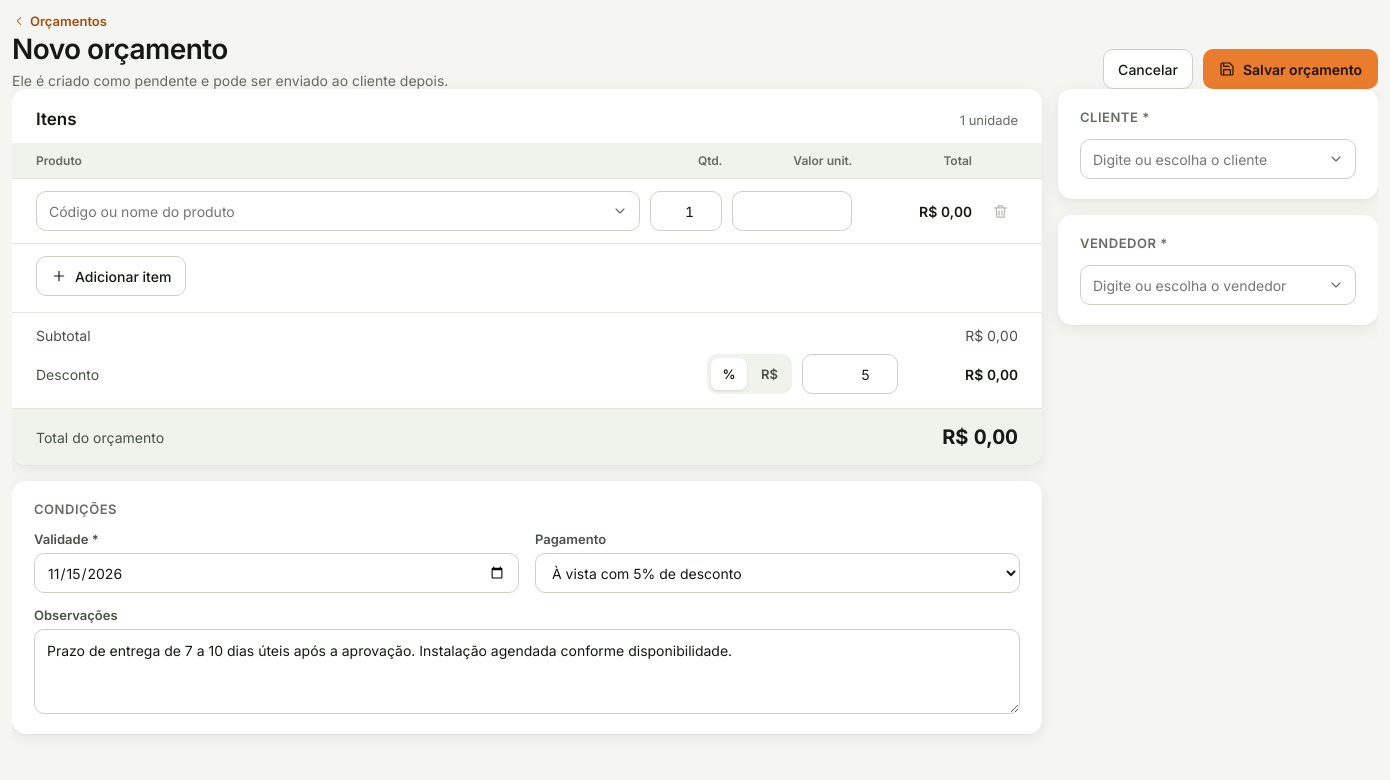
Test: novo orçamento › mostra os erros de cada campo ao salvar vazio
Click the button "Salvar orçamento": click(1290, 69) [1203, 49, 1378, 89]
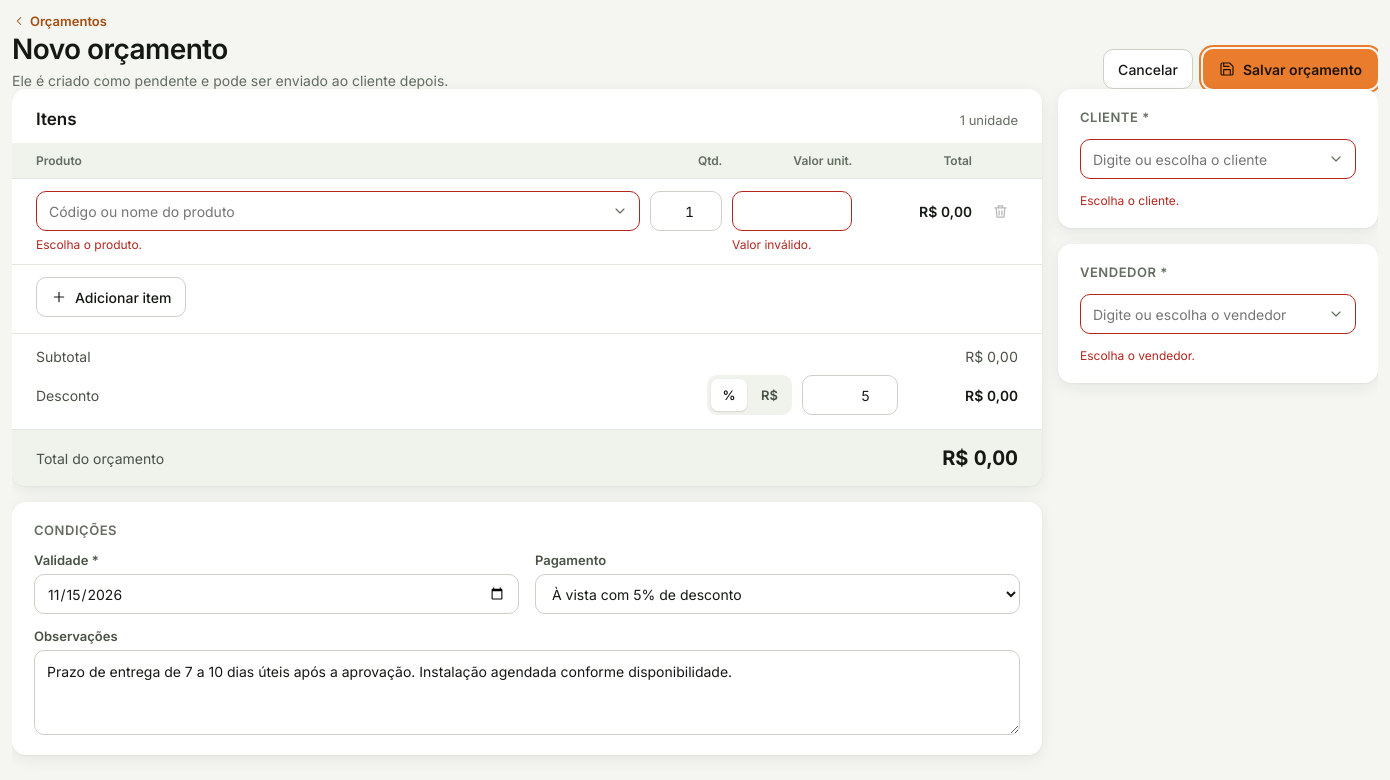
Expected: the text "Escolha o cliente." is shown, [1080, 193, 1179, 208]
Expected: the text "Escolha o vendedor." is shown, [1080, 348, 1195, 363]
Expected: the text "Escolha o produto." is shown, [36, 237, 142, 252]
